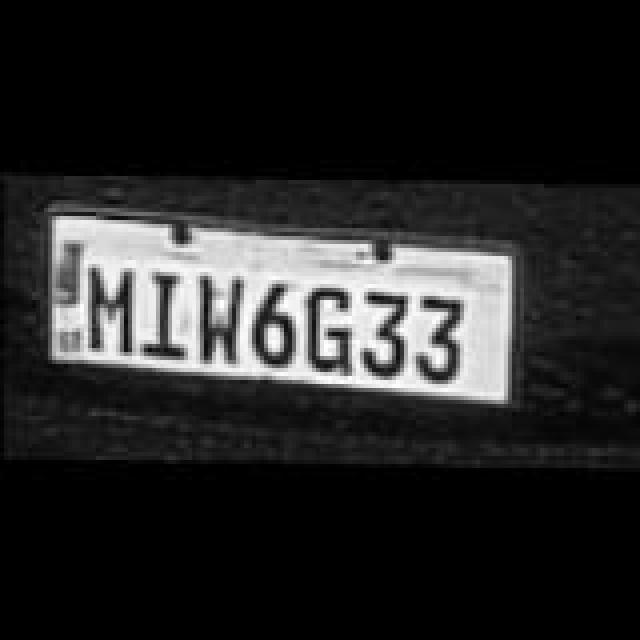3: (418, 294, 466, 382), (362, 290, 410, 378)
6: (252, 280, 296, 368)
G: (306, 284, 354, 372)
I: (146, 270, 186, 358)
M: (92, 264, 136, 352)
W: (198, 274, 246, 362)
